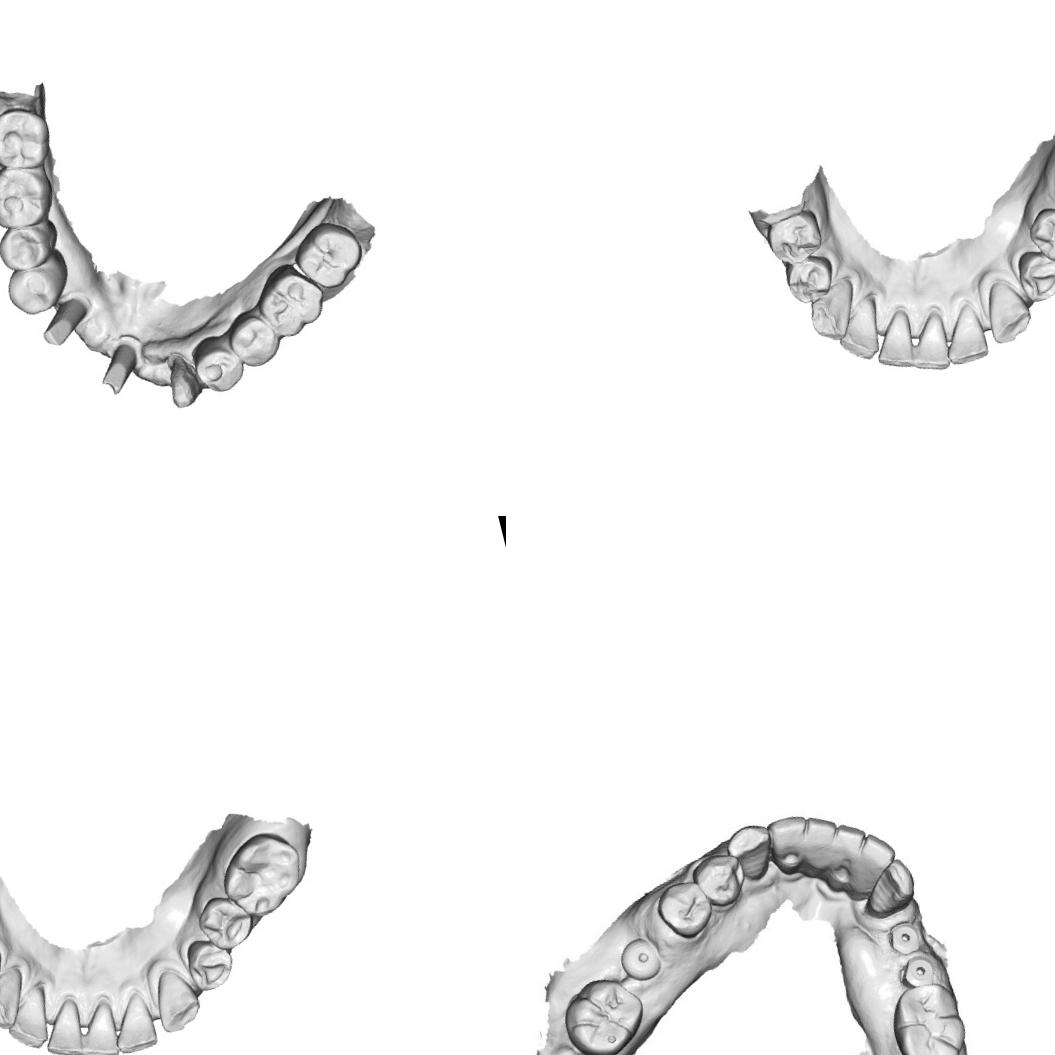abutment: (30, 290, 98, 353), (88, 336, 148, 400)
canine: (799, 271, 865, 345), (147, 960, 207, 1036), (978, 272, 1038, 347), (854, 856, 916, 918), (728, 822, 778, 884), (0, 960, 34, 1034)
crown: (157, 346, 209, 414)
implant: (616, 934, 660, 986), (899, 948, 938, 990), (884, 915, 922, 956)
incisor: (826, 290, 892, 368), (0, 978, 60, 1055), (933, 293, 993, 369), (863, 305, 924, 377), (102, 982, 162, 1055), (898, 304, 955, 378), (764, 812, 818, 884), (32, 994, 93, 1055), (67, 993, 124, 1055), (825, 815, 868, 864), (794, 810, 840, 855), (854, 832, 898, 878)
molar: (210, 822, 314, 926), (249, 255, 333, 343), (285, 212, 370, 296), (563, 975, 652, 1055), (889, 983, 963, 1055), (0, 156, 60, 235), (0, 98, 58, 178)
premolar: (0, 247, 77, 320), (758, 204, 830, 274), (191, 886, 261, 958), (220, 305, 287, 375), (184, 328, 249, 400), (691, 845, 754, 917), (175, 929, 239, 997), (0, 211, 66, 276), (654, 879, 712, 945), (778, 250, 840, 310), (1006, 240, 1055, 308), (1022, 197, 1055, 269)
